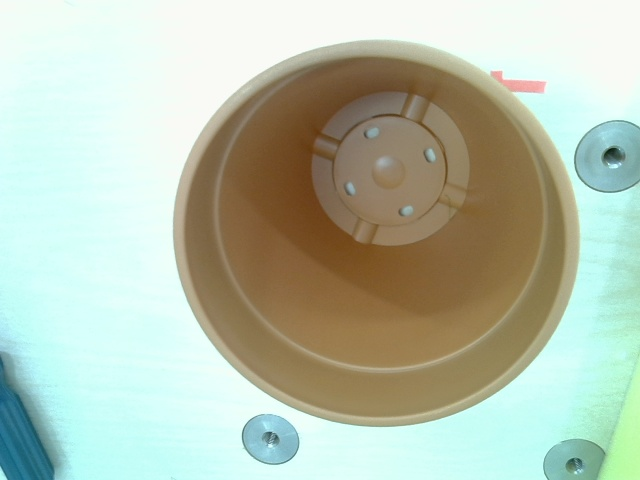화분: (168, 37, 580, 431)
